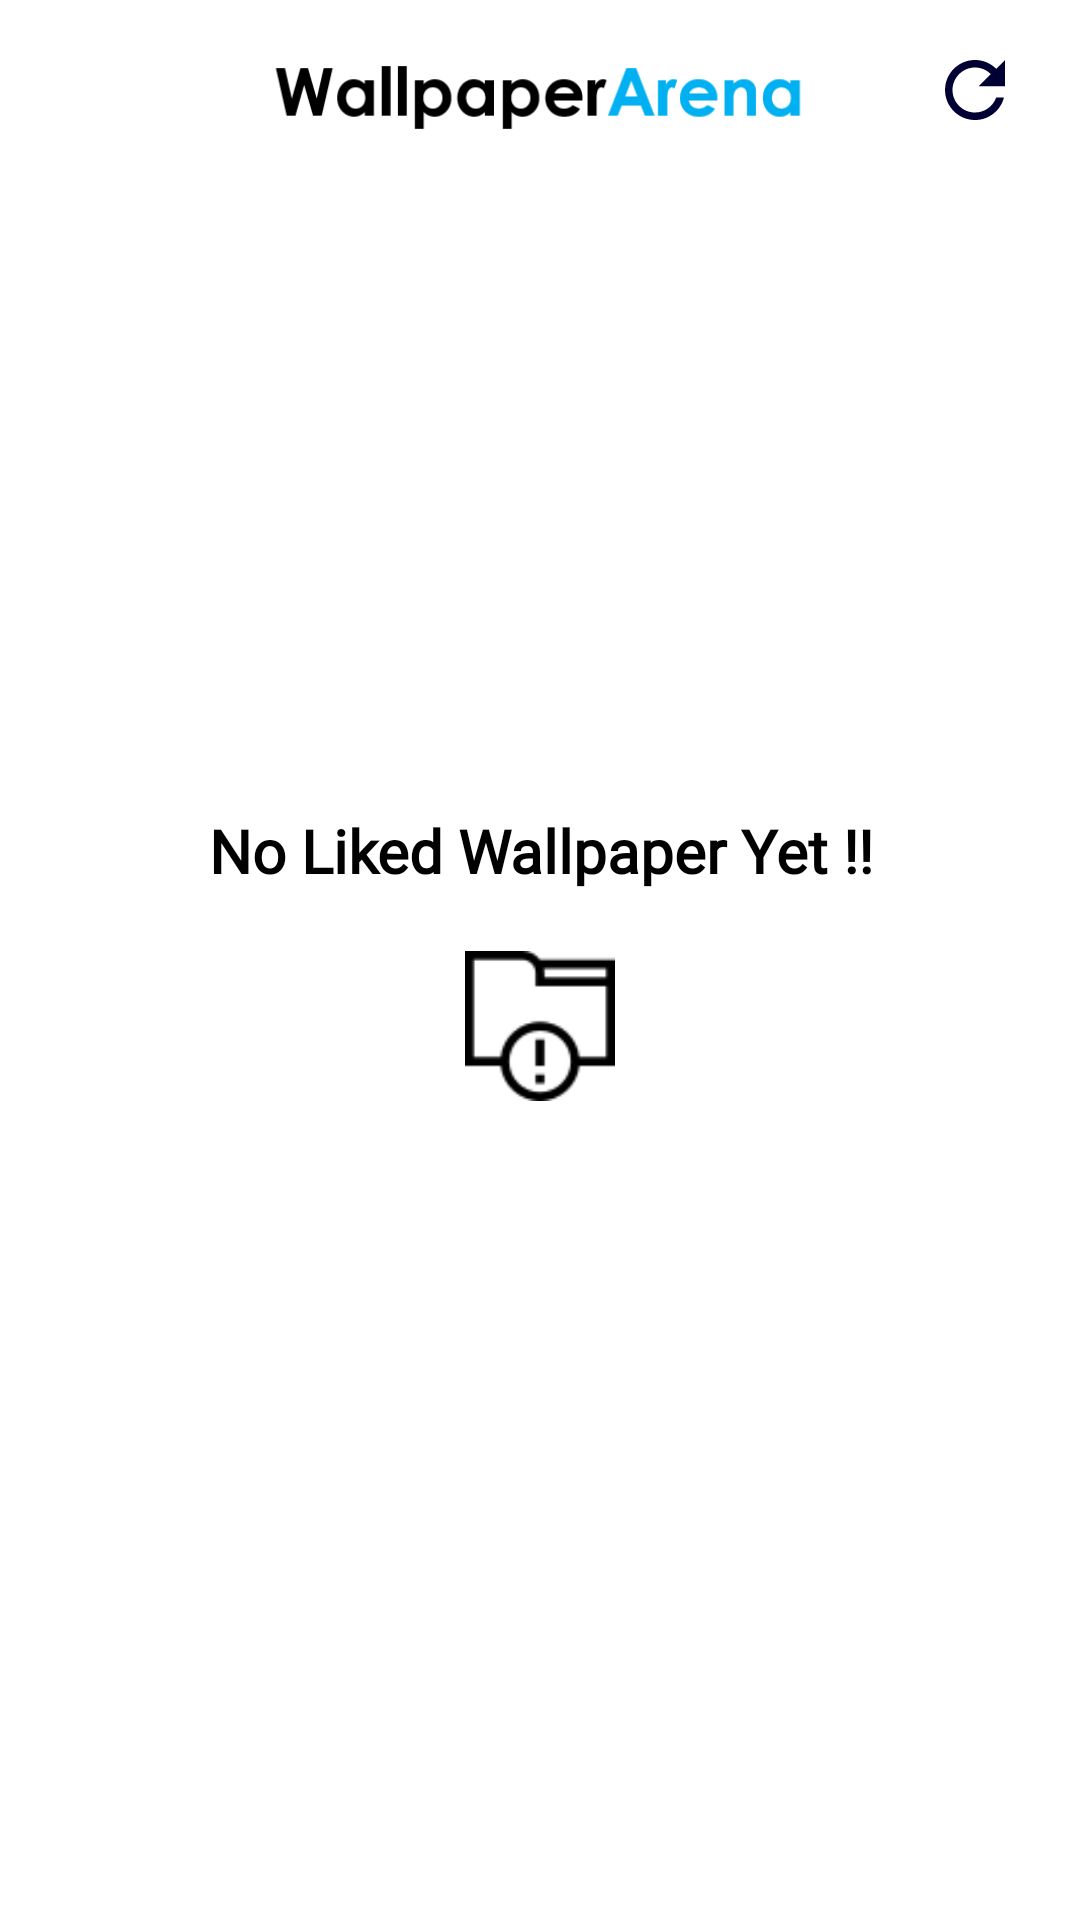

Screen size 1080 × 1920. Icon name, then its center in pixels as point (x, y):
attention: point (540, 1026)
